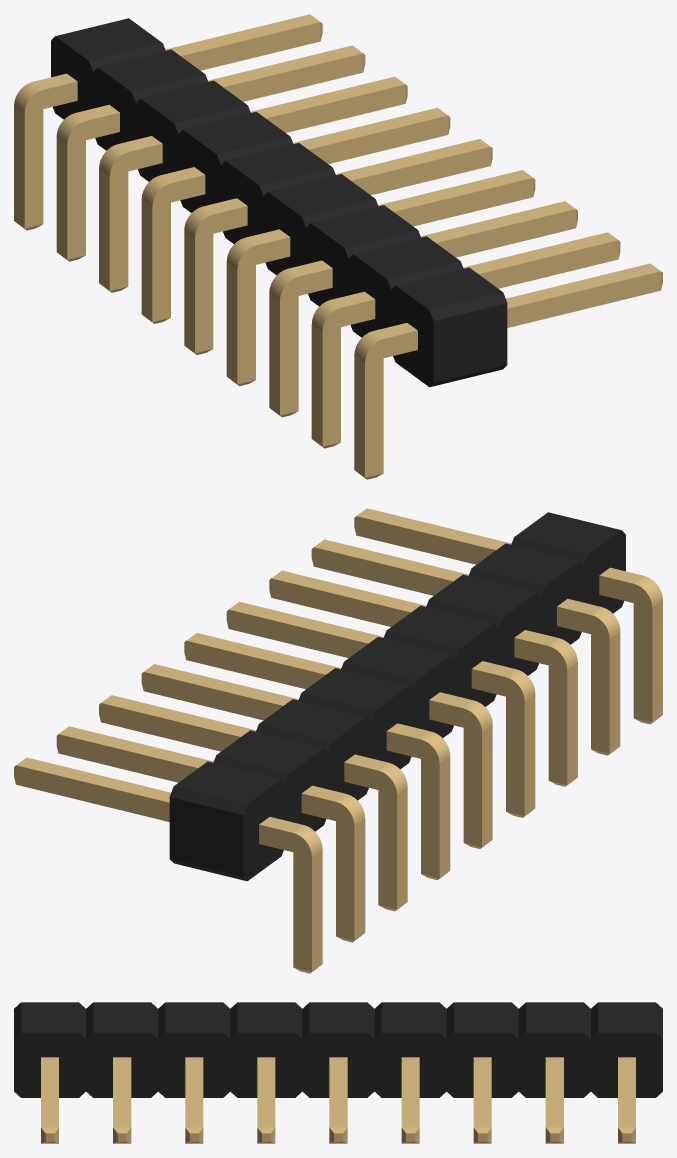
File: kc-pinheader_1x09_p2.54mm_horizontal.glb
3 renders of one model, top to bottom at view 1: azimuth 30°, elevation 25°; view 2: azimuth 150°, elevation 25°; view 3: azimuth 270°, elevation 25°, orthographic. The views are drawn at different scales.
Visible parts, largest first — view 1: 0.75_0.5_0.25_0.9, 0_0_0_0; view 2: 0.75_0.5_0.25_0.9, 0_0_0_0; view 3: 0_0_0_0, 0.75_0.5_0.25_0.9.
Boxes of the visible parts, x1,y1,x2,y2 form: 0.75_0.5_0.25_0.9: [14, 14, 662, 479]; 0_0_0_0: [51, 18, 507, 387]; 0.75_0.5_0.25_0.9: [14, 508, 662, 973]; 0_0_0_0: [169, 512, 625, 881]; 0_0_0_0: [14, 1002, 662, 1097]; 0.75_0.5_0.25_0.9: [41, 1057, 635, 1143].
Bounding box in the file's own units: 1.04 × 0.554 × 2.29.
